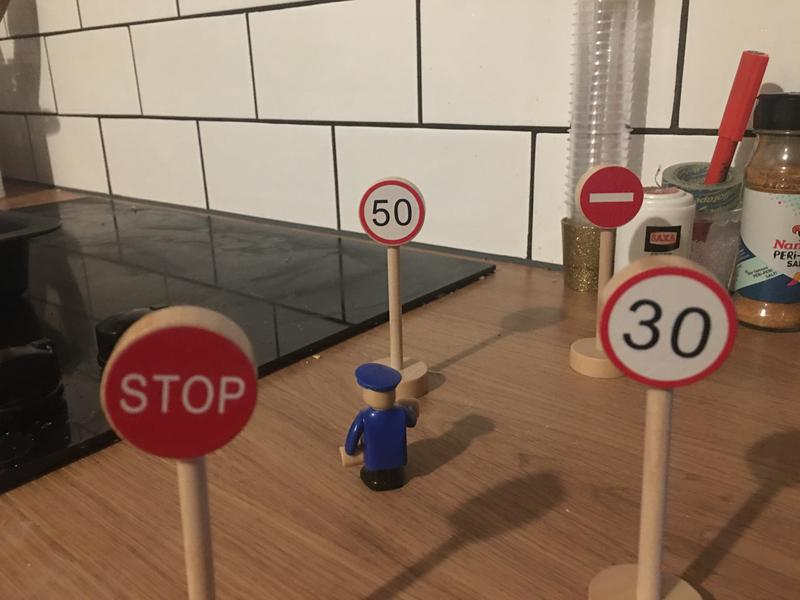Traffic_Sign_30: (601, 271, 734, 388)
Traffic_Sign_50: (359, 182, 423, 243)
Traffic_Sign_No_Entry: (578, 167, 643, 227)
Traffic_Sign_Stop: (102, 329, 255, 461)
person: (335, 359, 427, 498)
